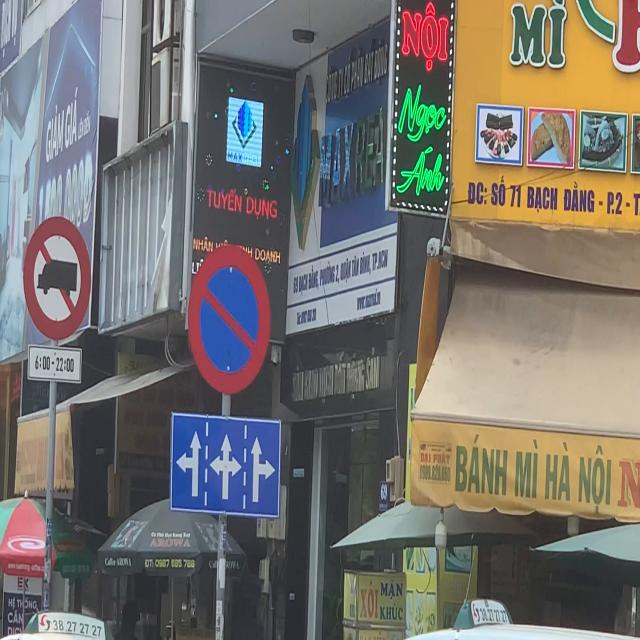Cam con lai: (23, 216, 92, 342)
Cam do: (187, 245, 271, 395)
